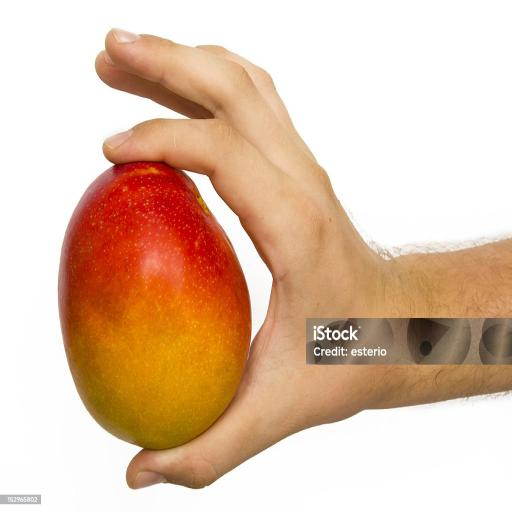mango: (59, 162, 250, 448)
